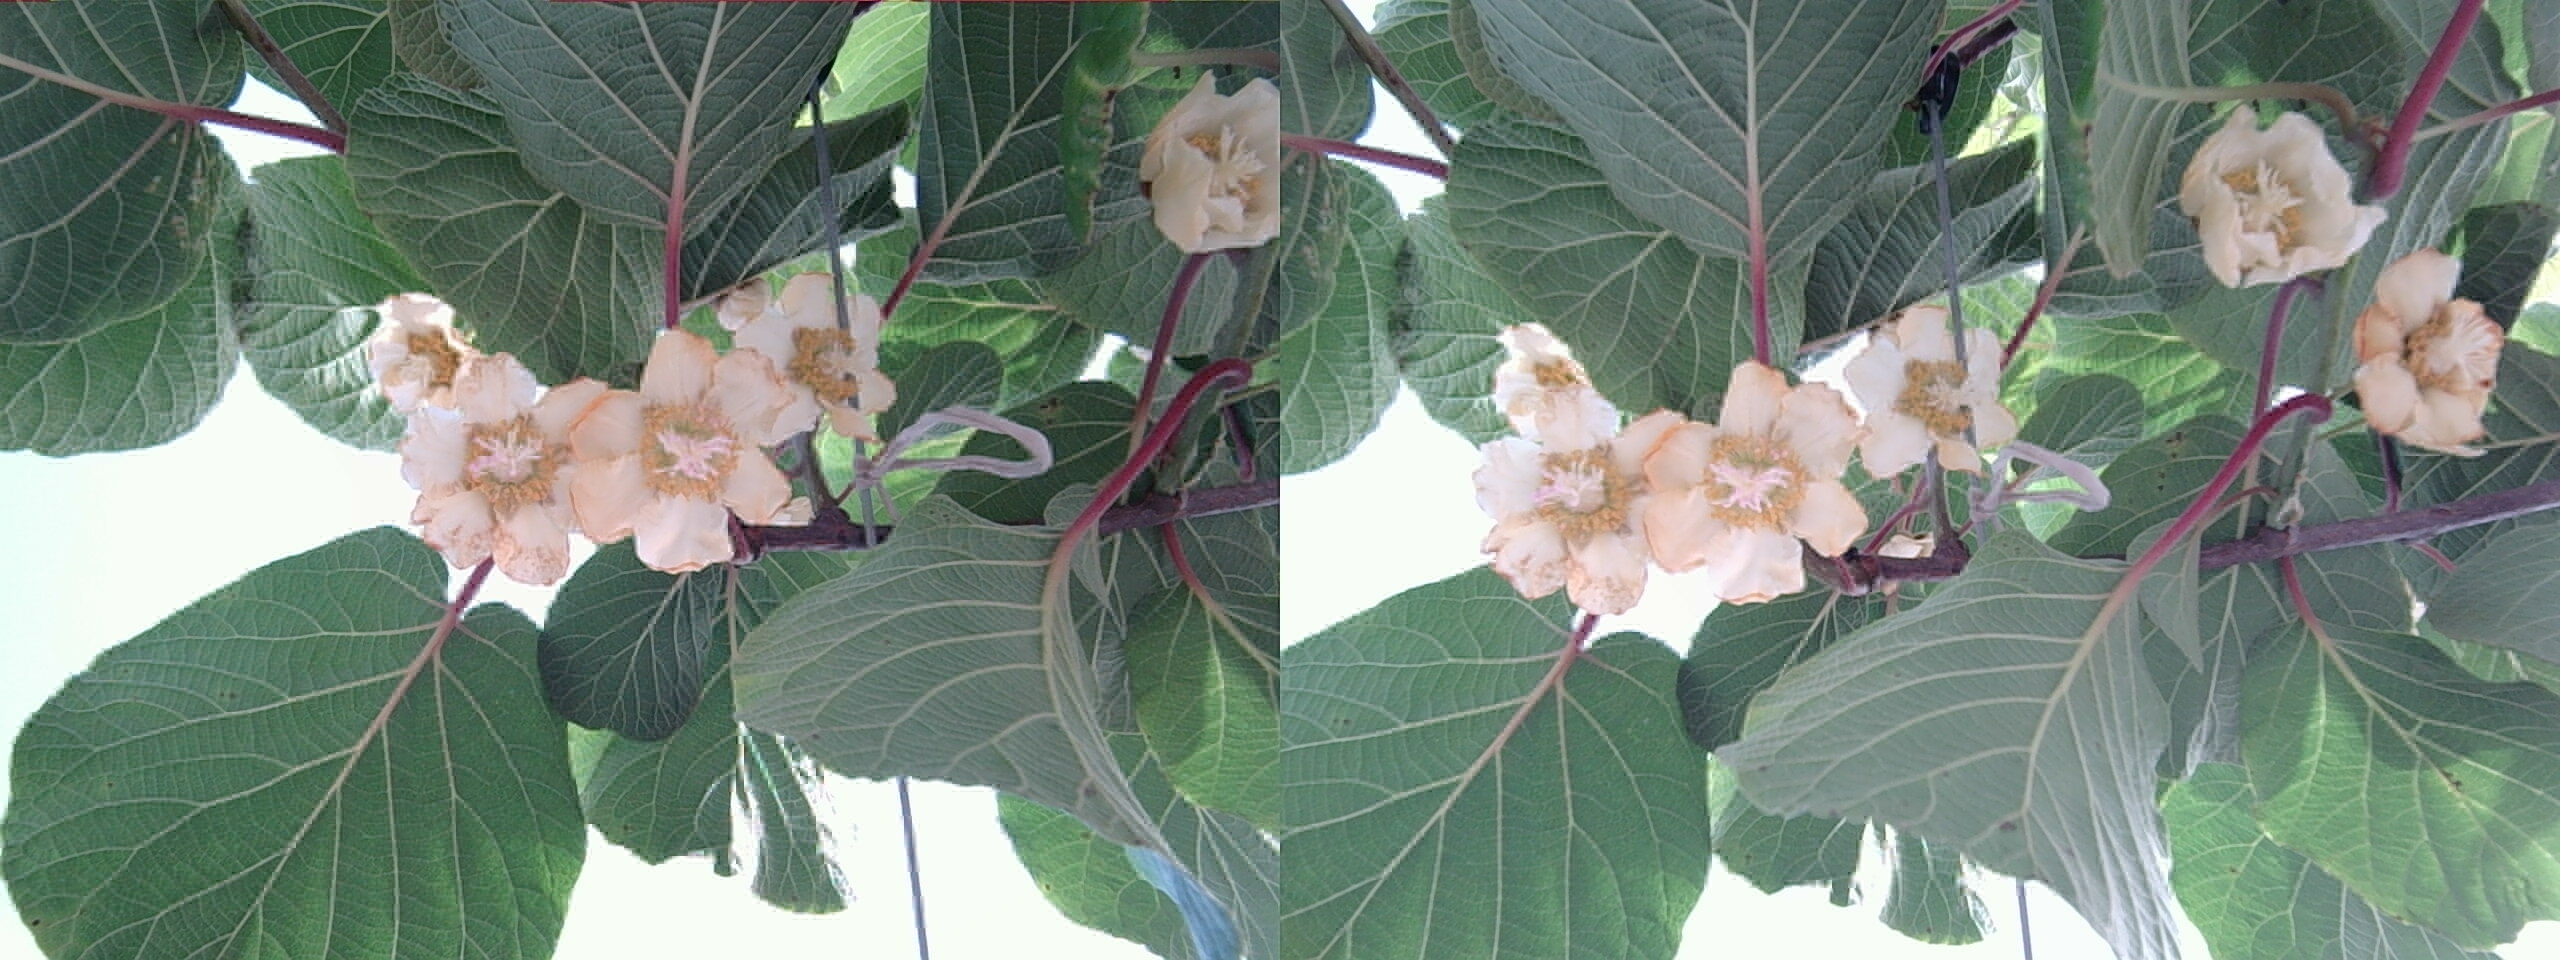flower: (1634, 369, 1871, 596), (589, 330, 808, 558), (393, 364, 619, 580), (1473, 416, 1678, 611), (2171, 98, 2361, 284), (2344, 256, 2508, 444), (1822, 318, 2002, 470), (723, 282, 883, 439), (1140, 77, 1277, 251), (359, 291, 506, 420), (1492, 317, 1616, 444)
